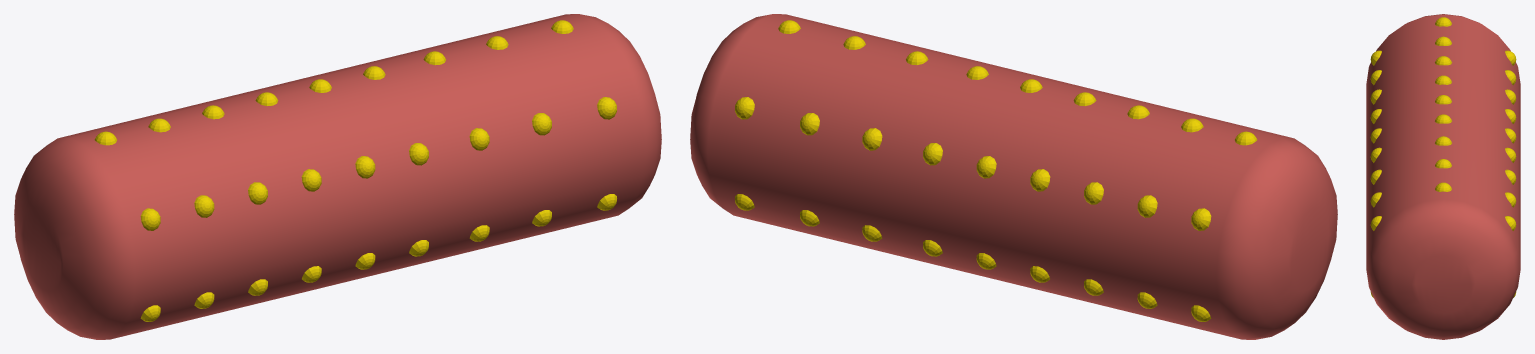
The model's file is Obstacle2.fbx.
3 renders of one model, left to right at view 1: azimuth 30°, elevation 25°; view 2: azimuth 150°, elevation 25°; view 3: azimuth 270°, elevation 25°, orthographic. The views are drawn at different scales.
Parts seen in each view (by area): view 1: Obstacle2; view 2: Obstacle2; view 3: Obstacle2, pSphere1, pSphere3, pSphere45, pSphere5, pSphere39, pSphere51, pSphere2, pSphere4, pSphere6.
Part boxes in pixels (x1,y1,x2,y2): Obstacle2: (14, 14, 661, 339); Obstacle2: (690, 14, 1337, 339); Obstacle2: (1366, 14, 1520, 339); pSphere1: (1435, 17, 1451, 26); pSphere3: (1435, 56, 1451, 65); pSphere45: (1435, 136, 1451, 145); pSphere5: (1435, 95, 1451, 104); pSphere39: (1435, 114, 1451, 123); pSphere51: (1435, 159, 1451, 168); pSphere2: (1435, 36, 1451, 45); pSphere4: (1435, 75, 1451, 84); pSphere6: (1435, 182, 1451, 191).
Size of the model in its own units: 21.46 by 6.99 by 6.53.
